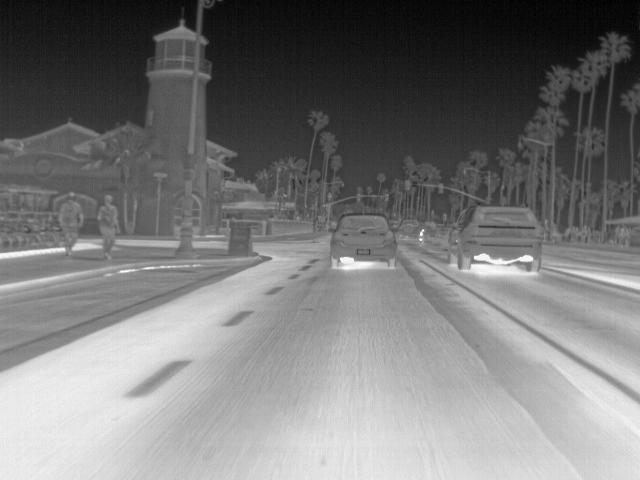car: (452, 204, 545, 275), (325, 212, 400, 272), (397, 219, 423, 238)
person: (95, 191, 122, 261), (57, 189, 84, 254)
